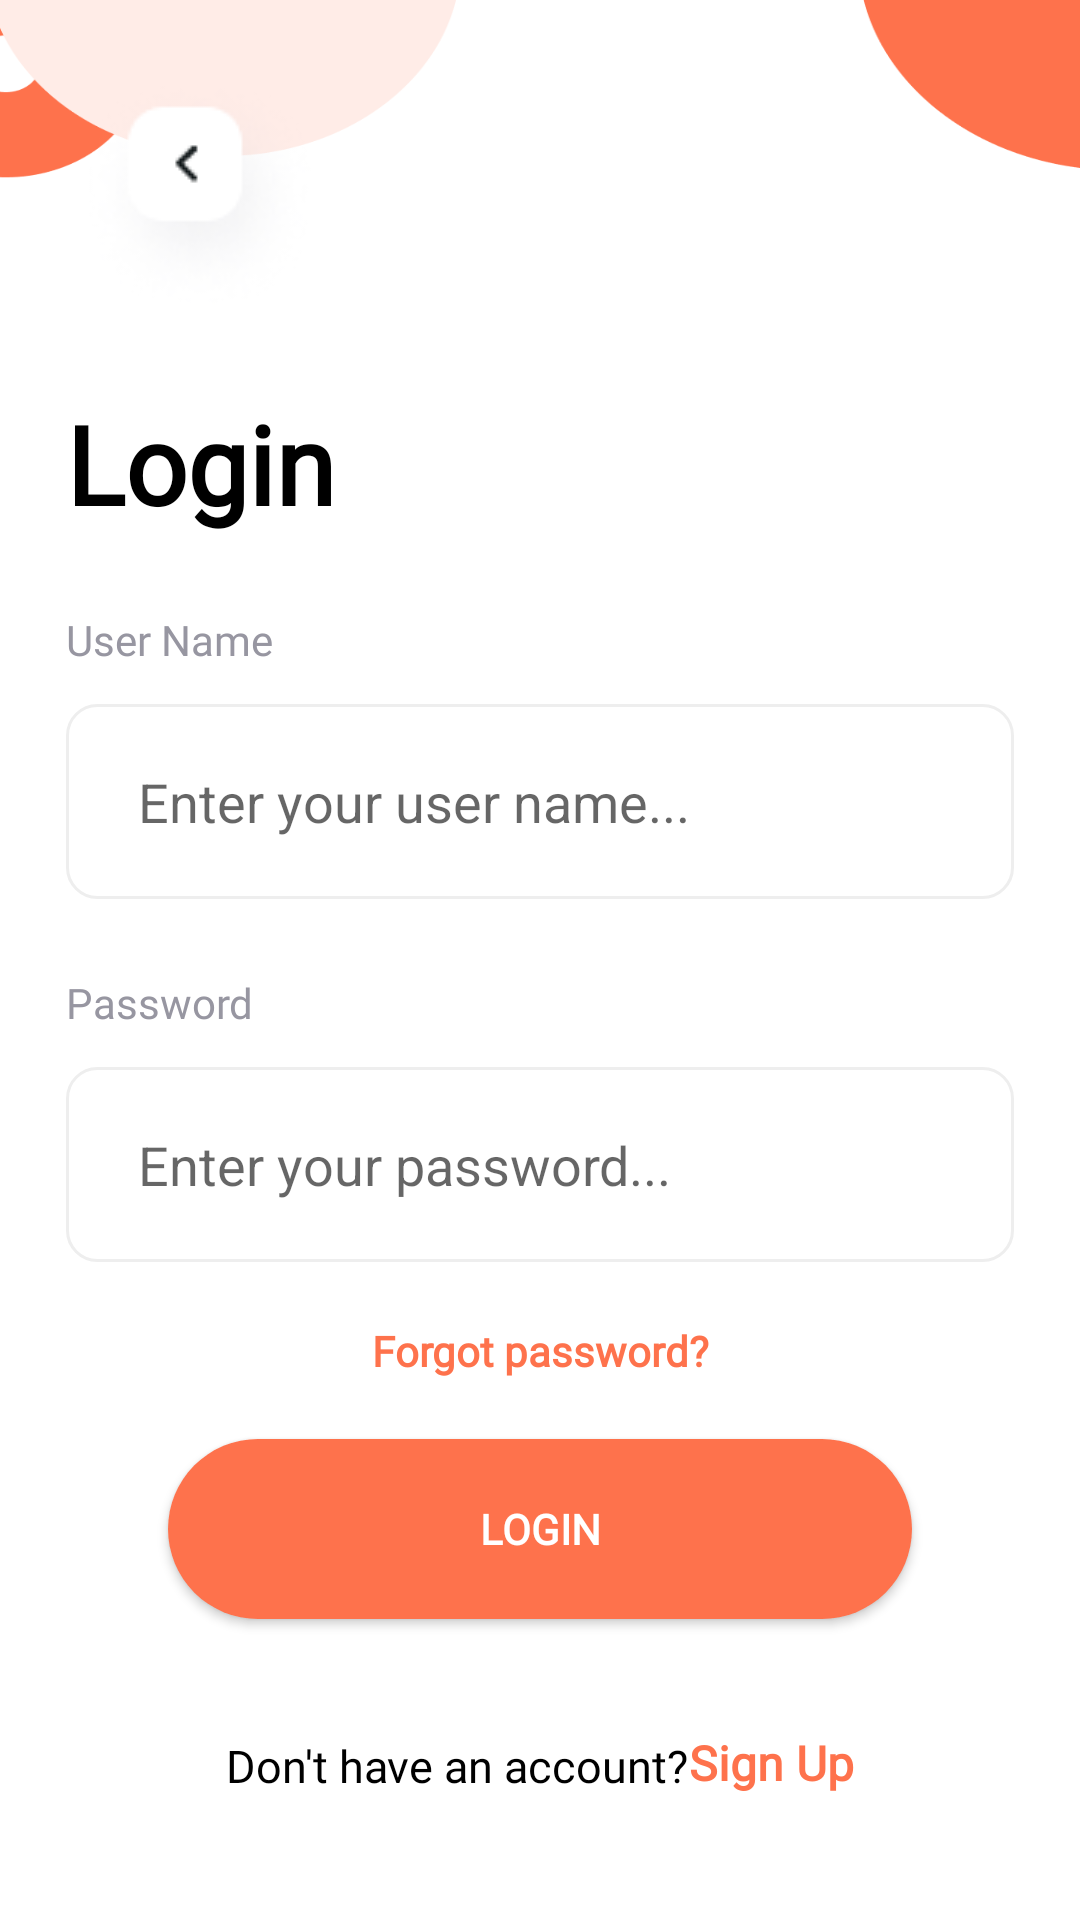

Named icons in this screenshot (1080*1920) and their bounding boxes, (x1, y1, x2, y2):
back: (107, 86, 305, 183)
